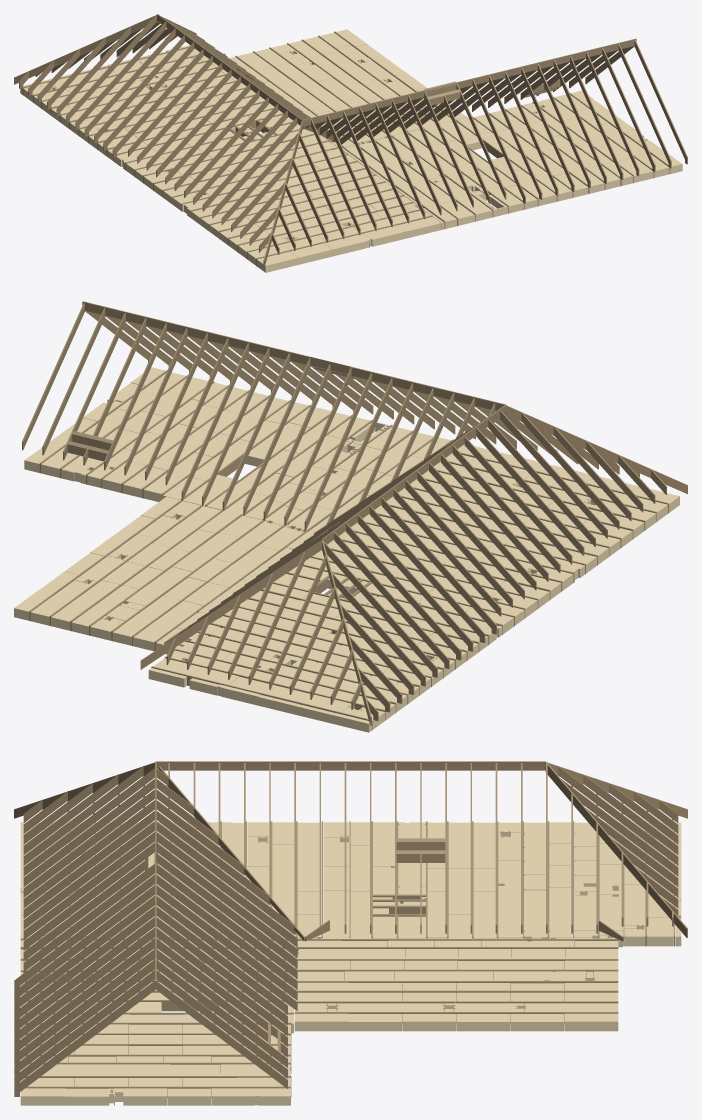
Rendered from slab_house_framing.glb.
The picture shows the model from 3 angles, top to bottom: view 1: azimuth 30°, elevation 25°; view 2: azimuth 150°, elevation 25°; view 3: azimuth 270°, elevation 25°; orthographic projection. The views are drawn at different scales.
Visible parts, largest first — view 1: attic_insulation, attic_rafters, attic_joists, attic_headers; view 2: attic_insulation, attic_rafters, attic_joists, attic_headers; view 3: attic_insulation, attic_rafters, attic_joists, attic_headers.
Boxes of the visible parts, left/top/right/bottom form: attic_insulation: left=20, top=29, right=682, bottom=272; attic_rafters: left=14, top=14, right=687, bottom=267; attic_joists: left=22, top=31, right=670, bottom=266; attic_headers: left=230, top=68, right=560, bottom=140; attic_insulation: left=14, top=367, right=679, bottom=732; attic_rafters: left=22, top=301, right=687, bottom=725; attic_joists: left=29, top=370, right=668, bottom=730; attic_headers: left=67, top=357, right=371, bottom=600; attic_insulation: left=20, top=822, right=681, bottom=1105; attic_rafters: left=14, top=761, right=687, bottom=1096; attic_joists: left=20, top=821, right=674, bottom=1097; attic_headers: left=145, top=838, right=445, bottom=1052.
Bounding box in the file's own units: 16.01 × 3.44 × 16.32.
